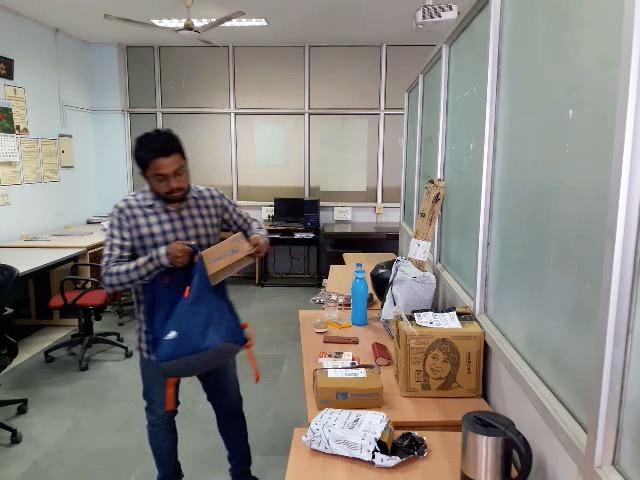shoplifting: (59, 212, 312, 373)
